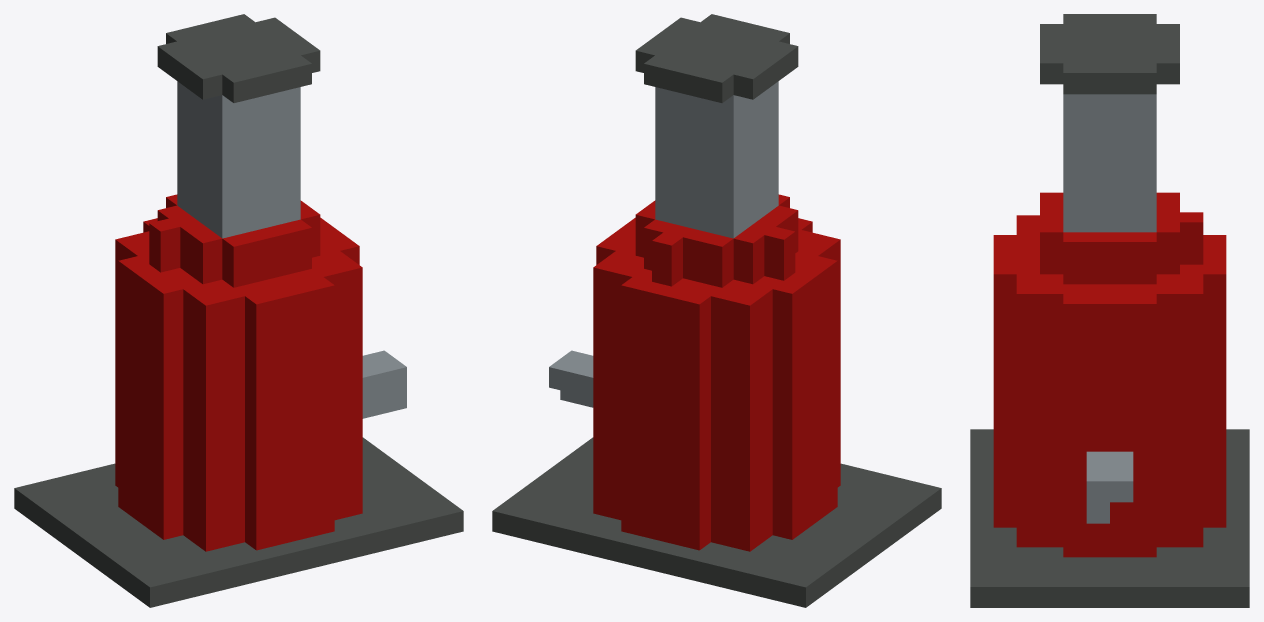
File: bottle_jack.glb
3 renders of one model, left to right at view 1: azimuth 30°, elevation 25°; view 2: azimuth 150°, elevation 25°; view 3: azimuth 270°, elevation 25°, orthographic. The views are drawn at different scales.
Visible parts, largest first — view 1: jack:bottleJack; view 2: jack:bottleJack; view 3: jack:bottleJack.
Part boxes in pixels (x1,y1,x2,y2): jack:bottleJack: (14,14,463,607); jack:bottleJack: (492,14,941,607); jack:bottleJack: (970,14,1249,607).
Size of the model in its own units: 0.16 by 0.23 by 0.12.
